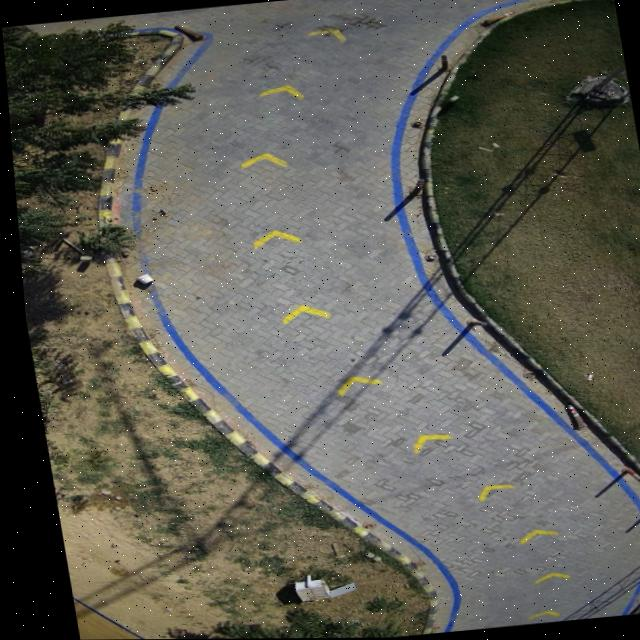No Car: (2, 0, 640, 640)
